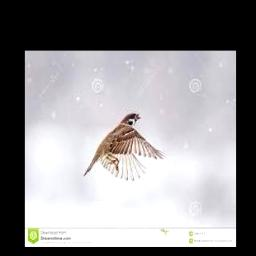Sparrow: (83, 113, 167, 181)
